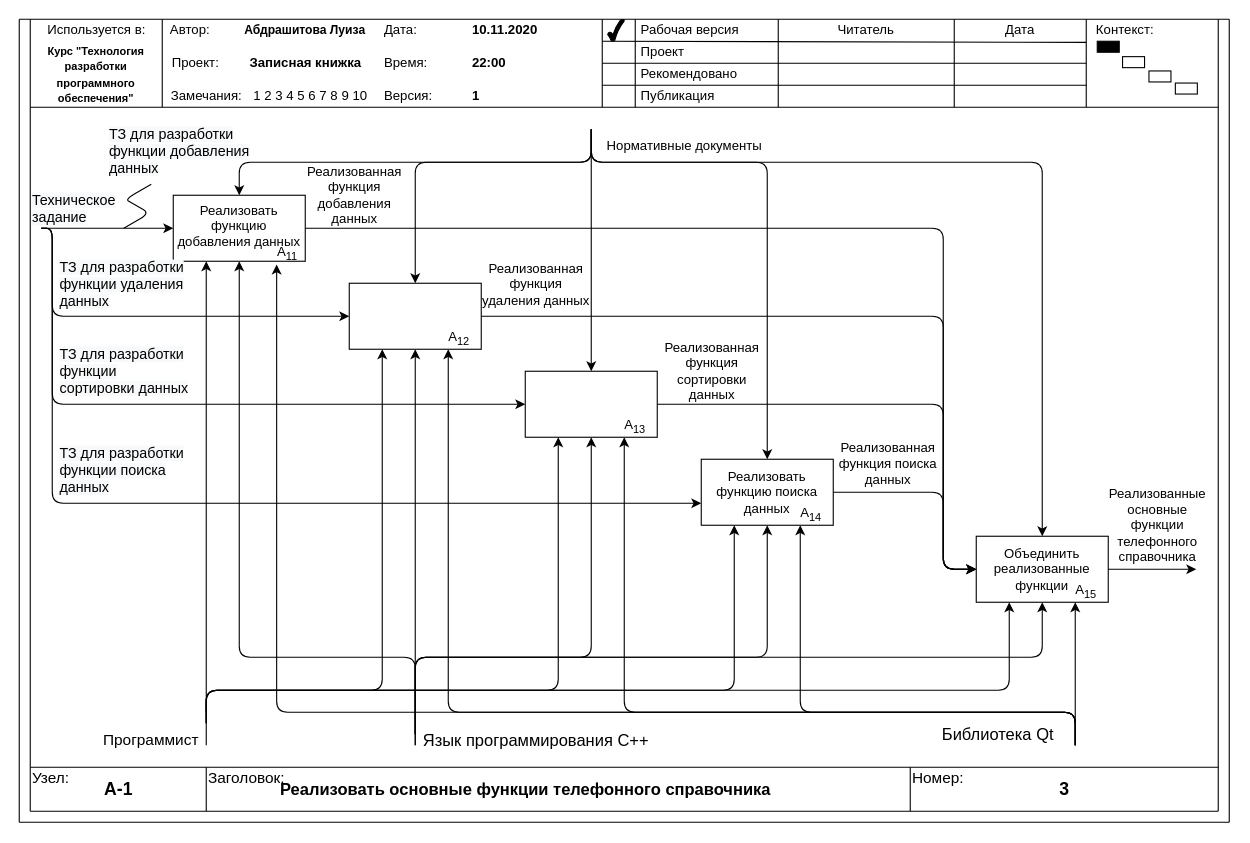
Image size: 1250x843. Some labels were removed from this diagram. Here are the shapes that lost their labels. From the top down, the box of each, then its label:
(348, 282, 481, 349): Реализовать функцию удаления данных
(524, 370, 657, 437): Реализовать функцию сортировки данных
